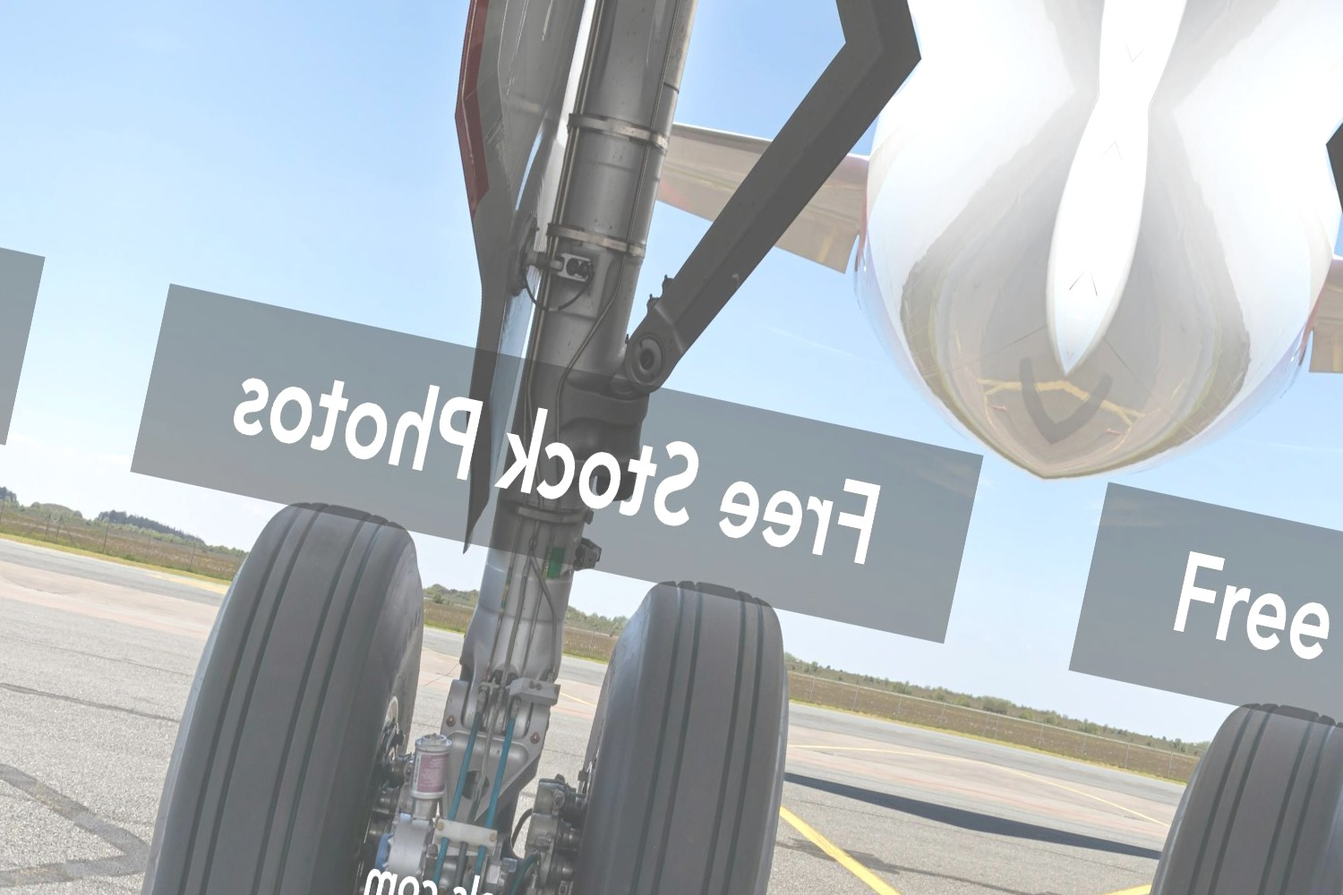wheel: (149, 483, 448, 895), (547, 567, 831, 895), (1107, 685, 1343, 895)
